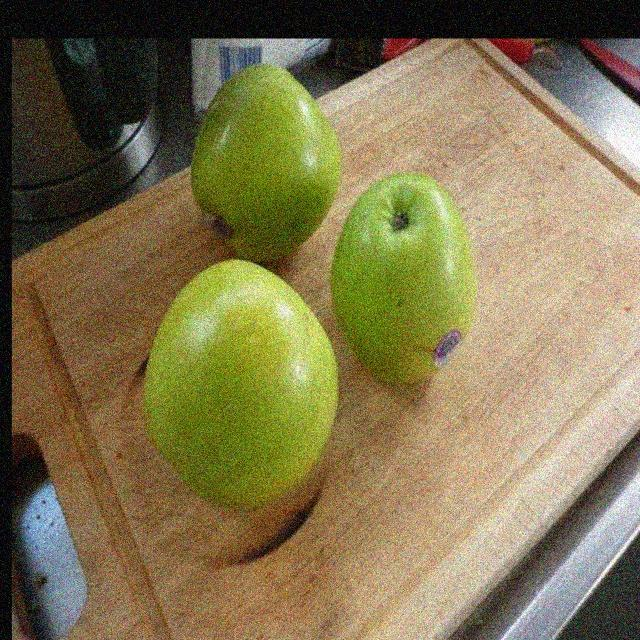green apple: (136, 260, 343, 521), (182, 60, 337, 269), (328, 169, 479, 379)
